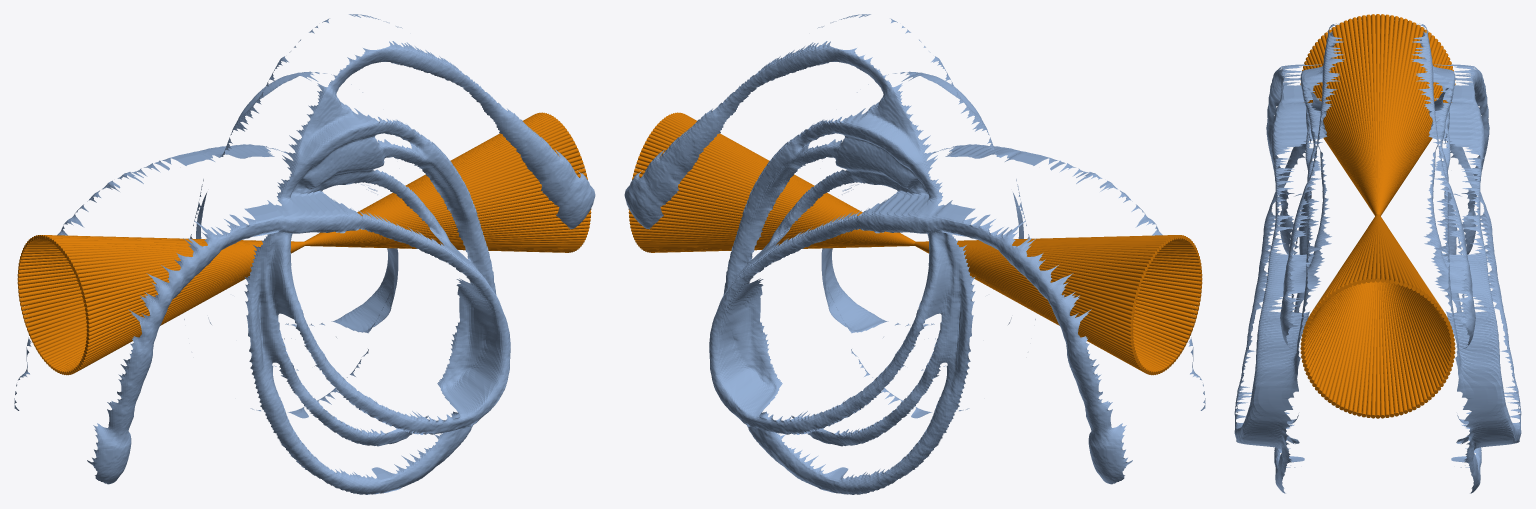
The model's file is A20023506_6145-37-530-7663_DigitalTwin.glb.
3 renders of one model, left to right at view 1: azimuth 30°, elevation 25°; view 2: azimuth 150°, elevation 25°; view 3: azimuth 270°, elevation 25°, orthographic. The views are drawn at different scales.
Parts seen in each view (by area): view 1: world; view 2: world; view 3: world.
Part boxes in pixels (box(x1,y1,x2,y2)): world: box(14, 14, 595, 494); world: box(624, 14, 1205, 494); world: box(1234, 14, 1521, 493).
Size of the model in its own units: 547 by 438 by 251.
